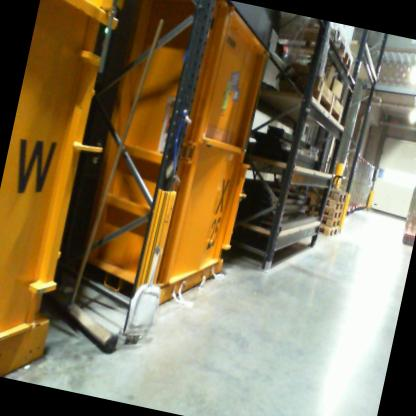pallet: (253, 27, 357, 80), (262, 14, 351, 59), (271, 78, 351, 127), (300, 202, 350, 232), (304, 176, 353, 206), (300, 183, 347, 212), (301, 199, 346, 222), (304, 218, 343, 242)
